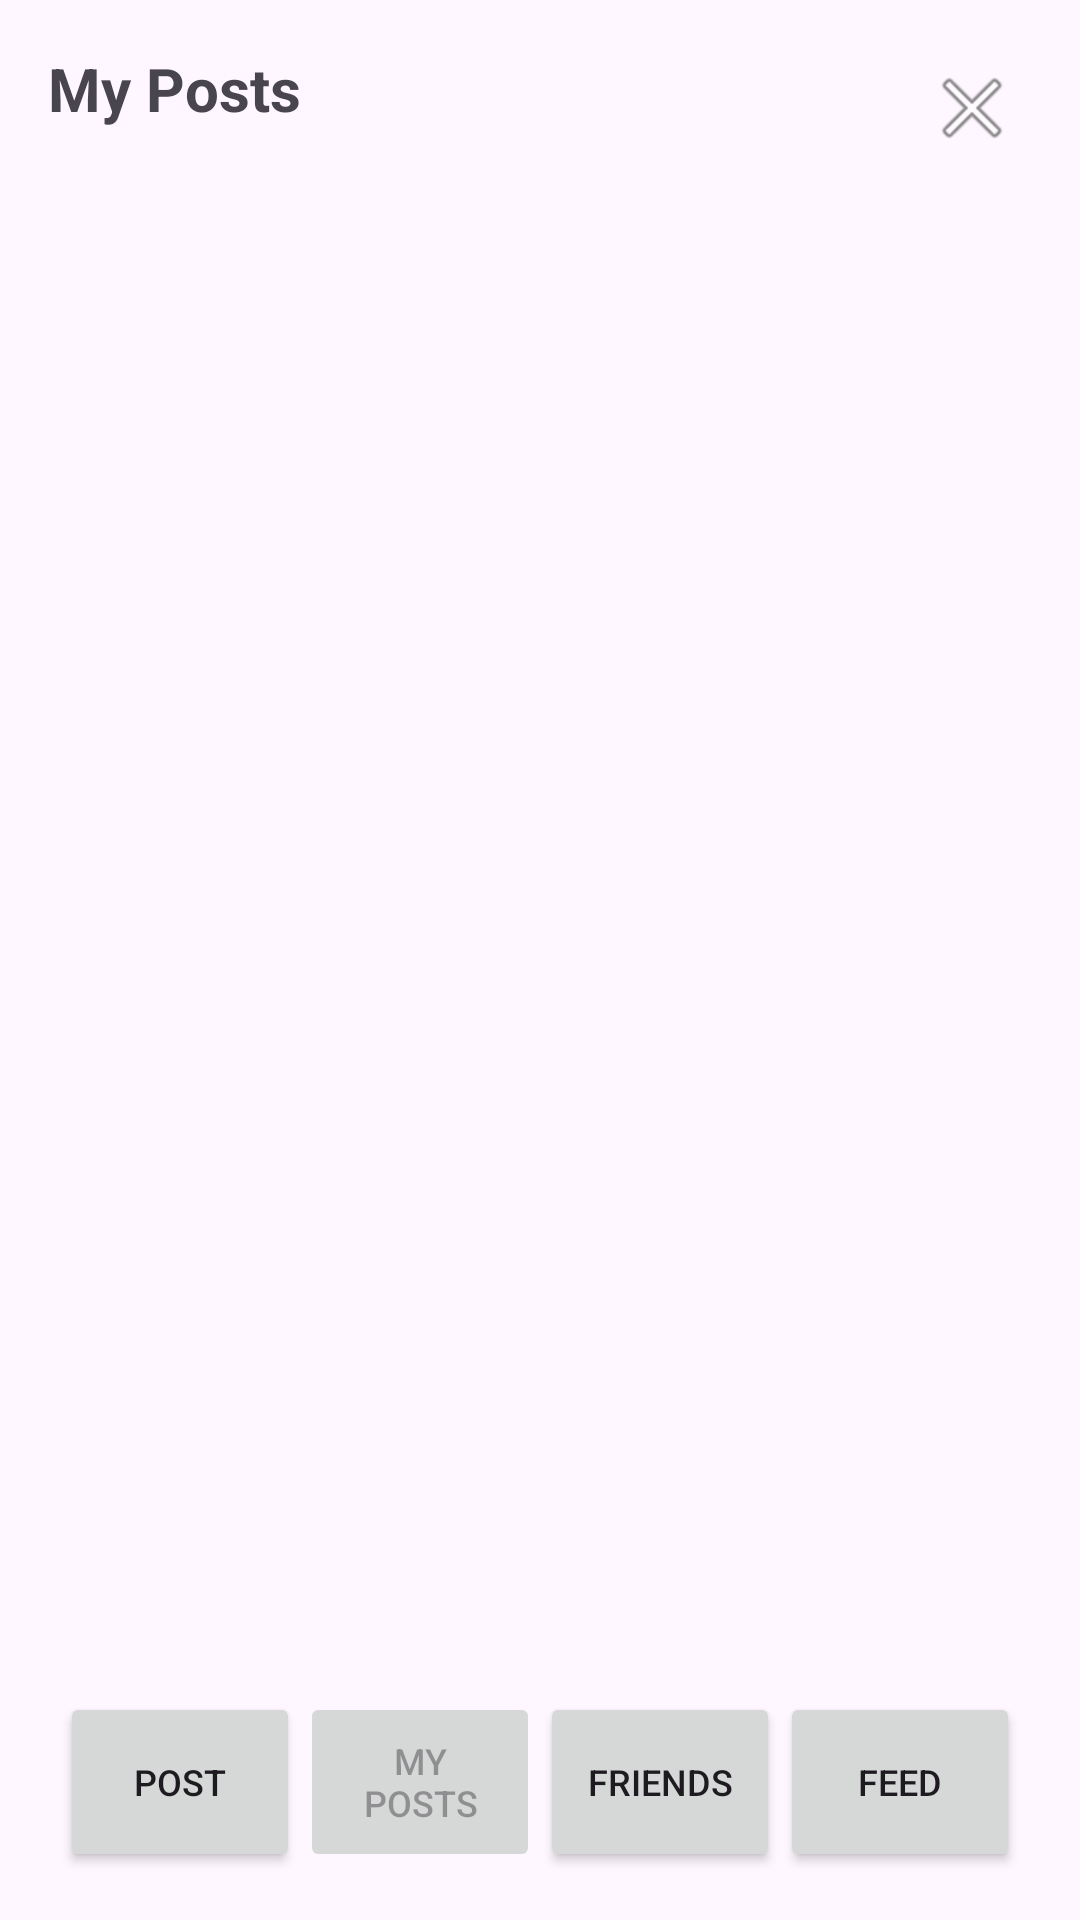

Icon bounding boxes for this 1080x1920 phone screenshot, format (x1, y1, x2, y2):
Close: (942, 78, 1002, 138)
